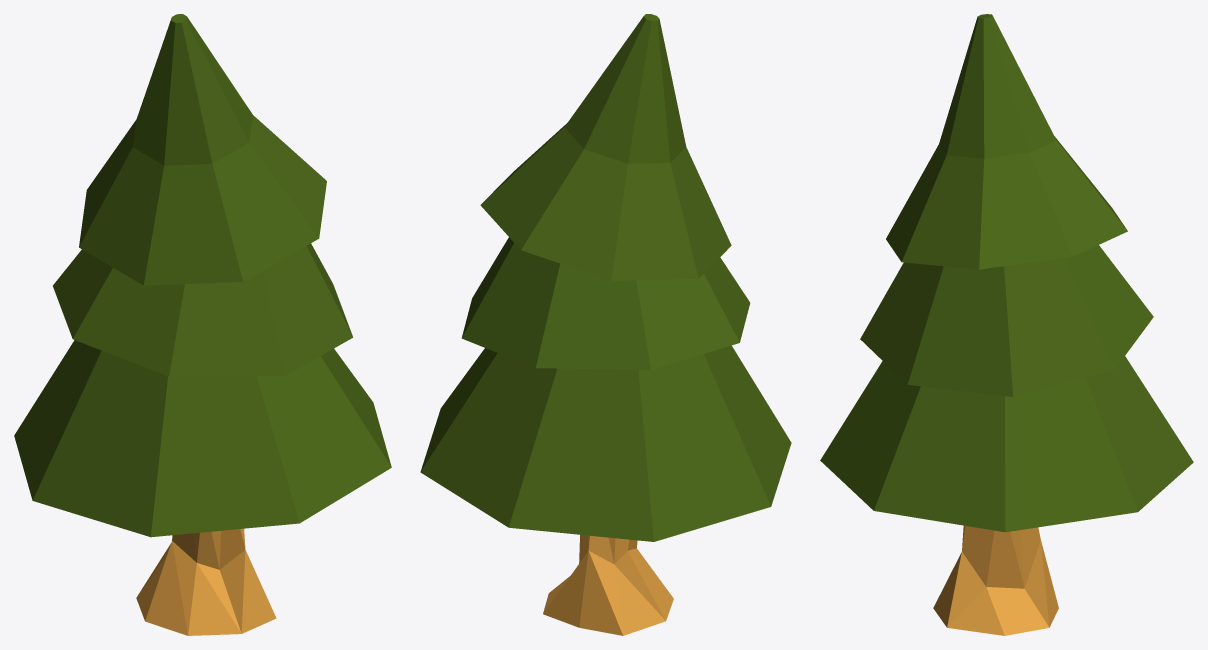
The model's file is object_landscape_tree_deciduous_teenager.glb.
3 views of the same model, side by side, from view 1: azimuth 30°, elevation 25°; view 2: azimuth 150°, elevation 25°; view 3: azimuth 270°, elevation 25° (orthographic). The views are drawn at different scales.
Visible parts, largest first — view 1: object_landscape_tree_deciduous_teenager; view 2: object_landscape_tree_deciduous_teenager; view 3: object_landscape_tree_deciduous_teenager.
Boxes of the visible parts, x1,y1,x2,y2 form: object_landscape_tree_deciduous_teenager: (14,14,391,635); object_landscape_tree_deciduous_teenager: (420,14,791,635); object_landscape_tree_deciduous_teenager: (820,14,1193,635).
Bounding box in the file's own units: 0.3889 × 0.6633 × 0.3894.
